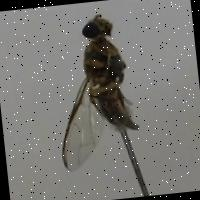Oriental-fruit-fly: (40, 3, 148, 170)
